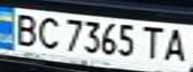3: (78, 18, 103, 55)
5: (115, 20, 142, 60)
6: (100, 20, 121, 57)
7: (60, 16, 84, 53)
A: (160, 25, 193, 64)
B: (9, 10, 42, 47)
C: (33, 13, 63, 51)
T: (139, 24, 169, 61)
